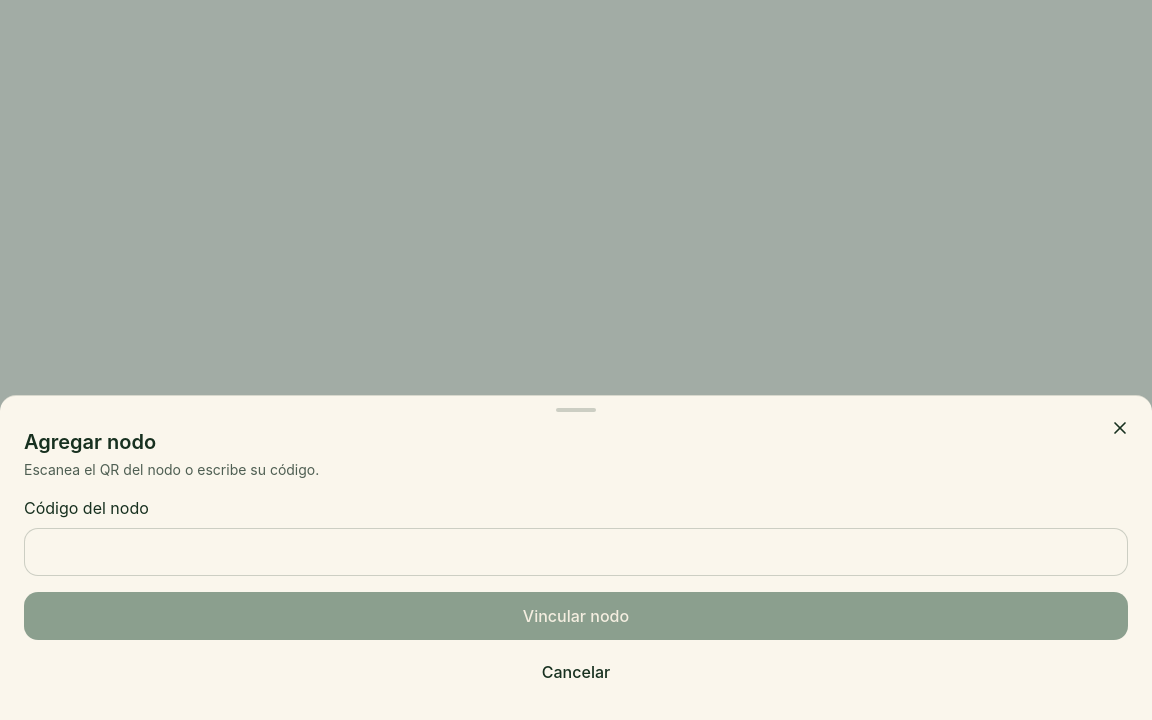
Test: ClaimNodeSheet › shows error when copying password to clipboard fails
This screenshot has width=1152, height=720.
Type "ABC-123" into the field labelled "Código del nodo" at (576, 552), box 24,528 -> 1128,576
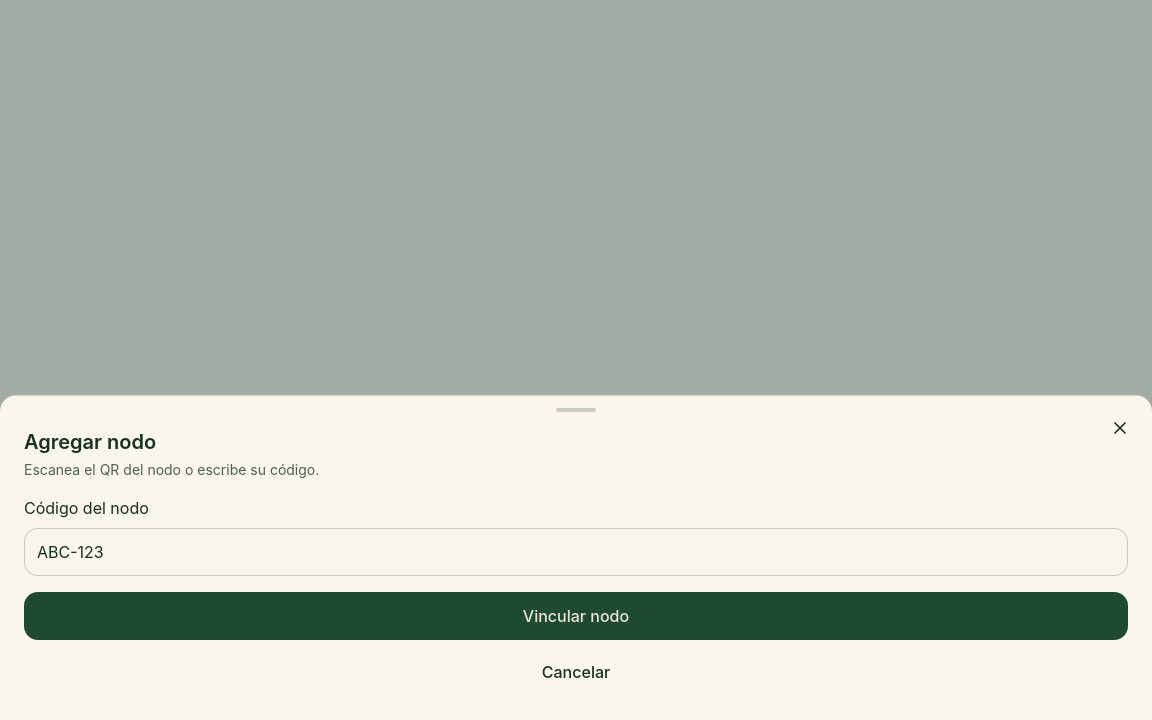
Click the button "Vincular nodo" at (576, 616), box 24,592 -> 1128,640
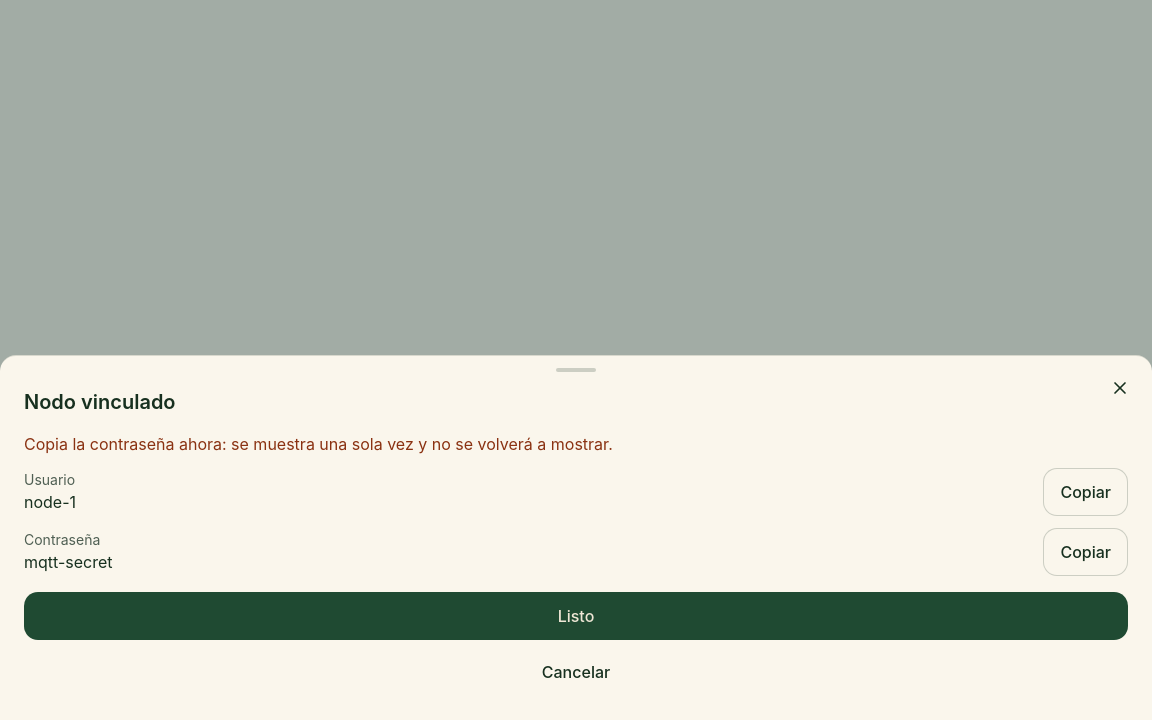
Result: the text "mqtt-secret" is shown at 24,550 -> 113,574
Click the button with aria-label "Copiar contraseña" at (1086, 552), box 1043,528 -> 1128,576
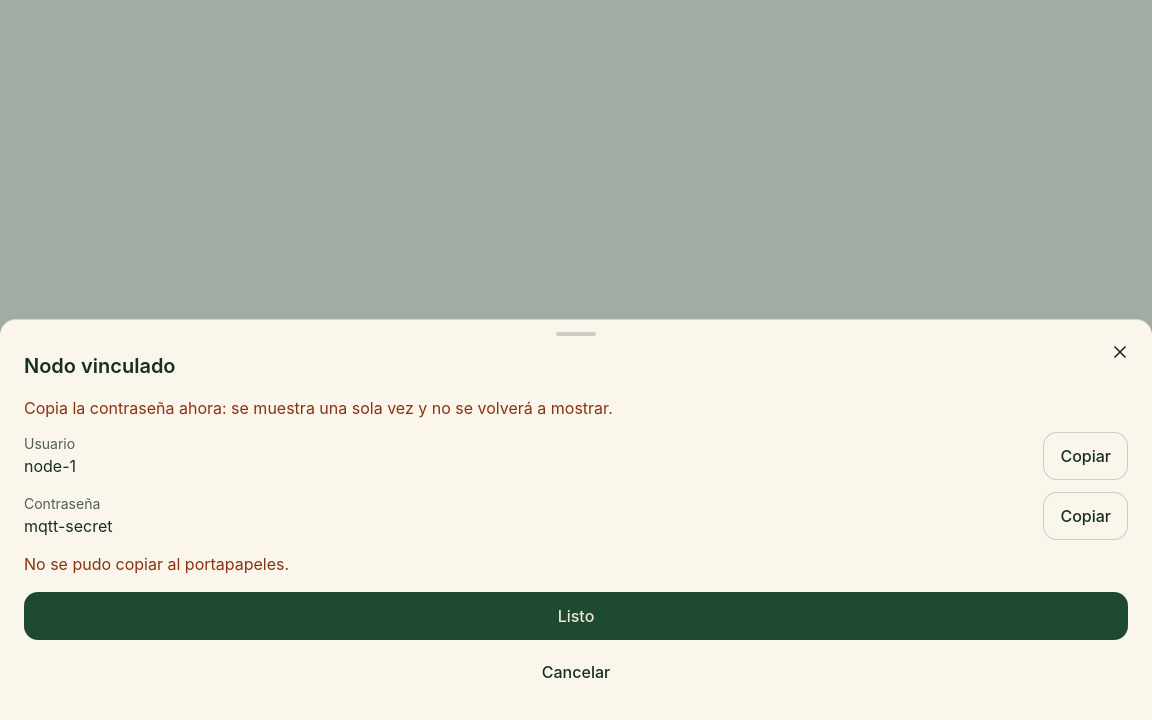
Result: the text "No se pudo copiar al portapapeles." is shown at 24,554 -> 289,574
